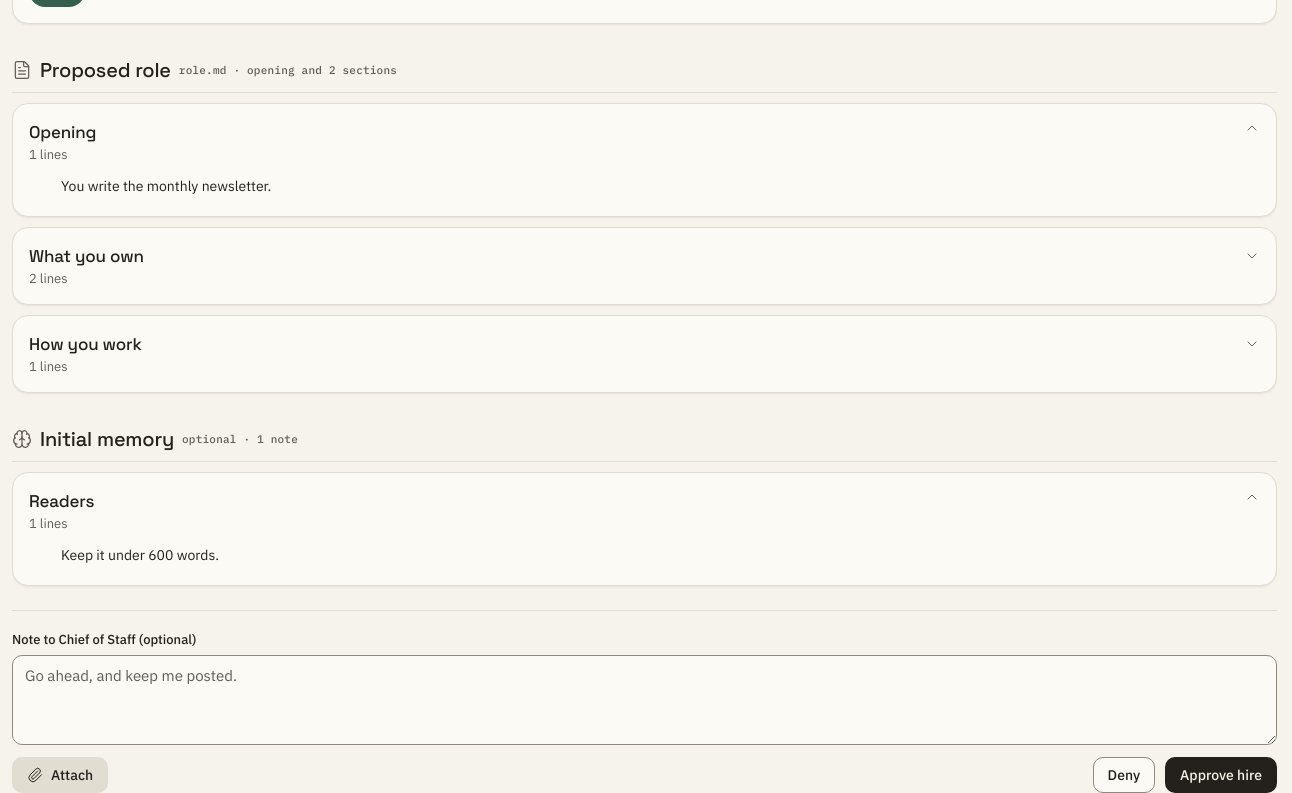
Proposal page › shows the resolved state when the answer was already given elsewhere (404)
The image size is (1292, 793).
(page scrolled)
Click the button "Approve hire" at {"x": 1221, "y": 775}, box x1=1165 y1=757 x2=1277 y2=792
(page scrolled)
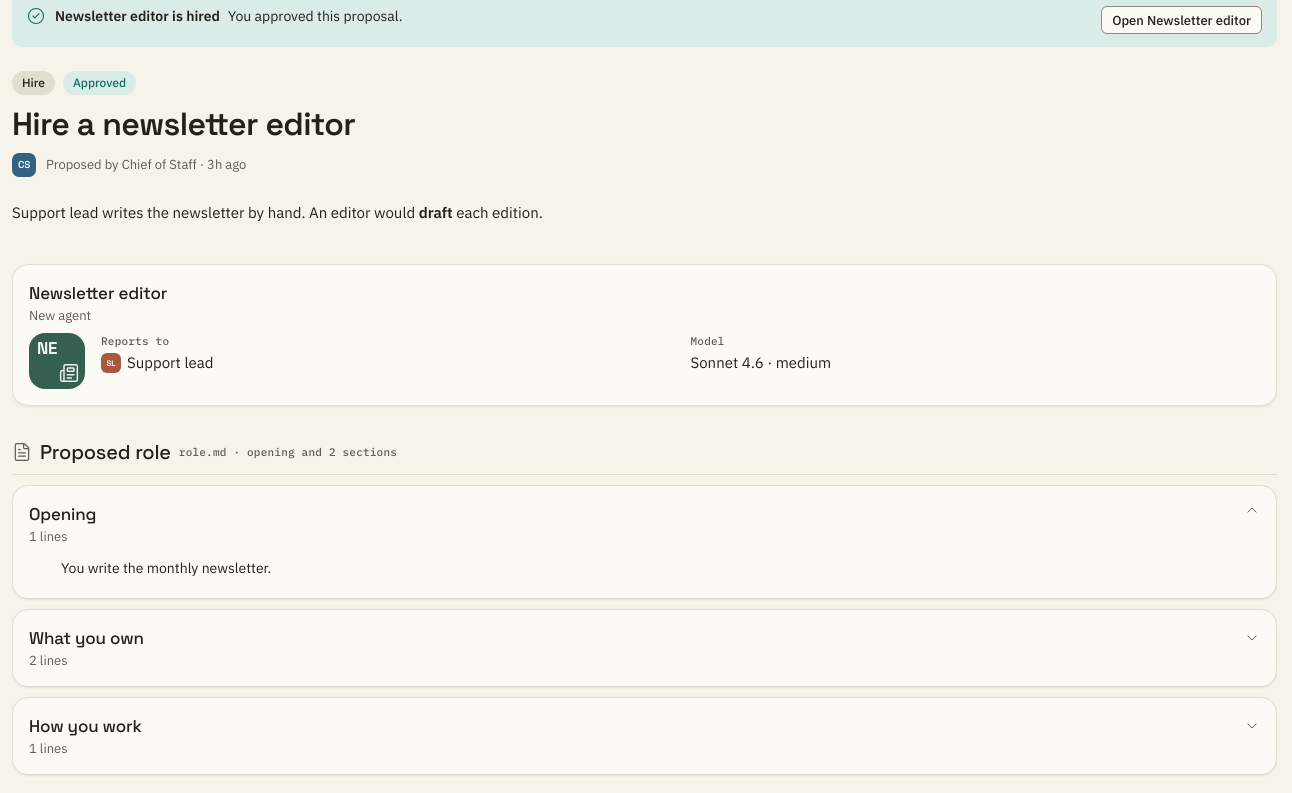
Expected: the text "Newsletter editor is hired" is shown, x1=55 y1=6 x2=220 y2=26
Expected: the button "Approve hire" is gone
